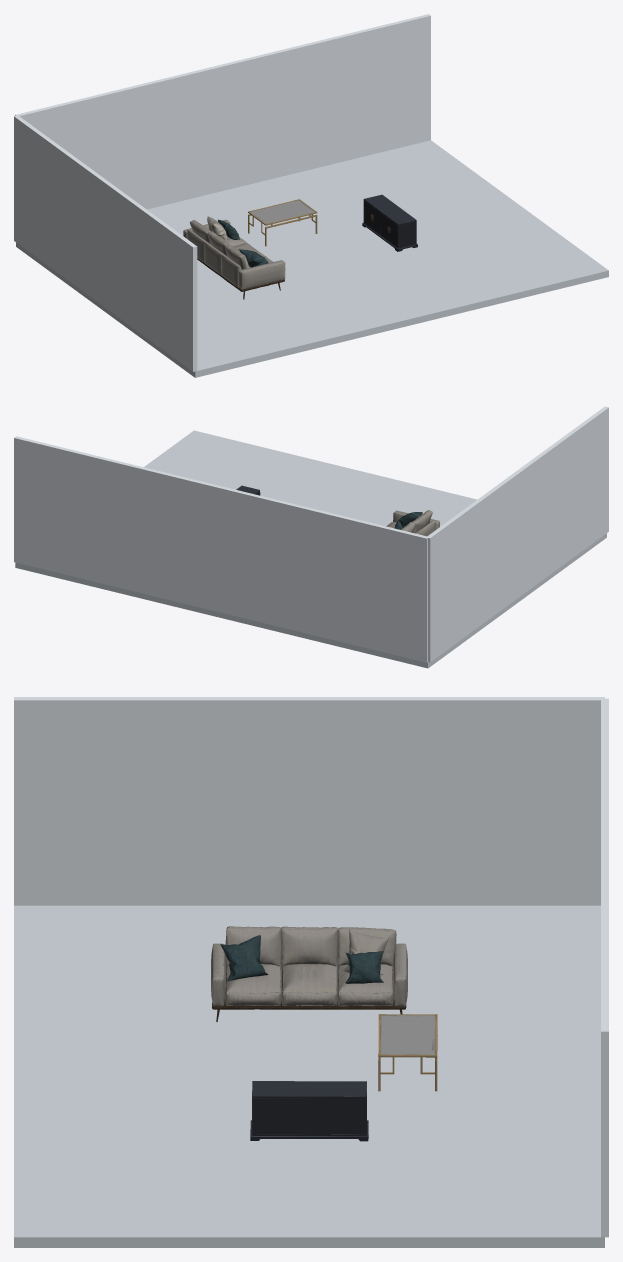
File: stage1.glb
3 renders of one model, top to bottom at view 1: azimuth 30°, elevation 25°; view 2: azimuth 150°, elevation 25°; view 3: azimuth 270°, elevation 25°, orthographic. The views are drawn at different scales.
Visible parts, largest first — view 1: Floor, wall_back, wall_left, raw_model, raw_model.002, raw_model.001; view 2: wall_back, wall_left, Floor, raw_model; view 3: Floor, wall_left, raw_model, raw_model.002, wall_back, raw_model.001.
Part boxes in pixels (x1,y1,x2,y2): Floor: (16, 140, 608, 377); wall_back: (15, 14, 430, 209); wall_left: (14, 116, 197, 371); raw_model: (183, 216, 285, 299); raw_model.002: (362, 194, 417, 251); raw_model.001: (248, 199, 317, 246); wall_back: (14, 436, 428, 662); wall_left: (427, 406, 608, 662); Floor: (15, 430, 606, 668); raw_model: (386, 510, 439, 536); Floor: (14, 905, 604, 1247); wall_left: (14, 697, 604, 905); raw_model: (211, 926, 407, 1021); raw_model.002: (250, 1081, 368, 1141); wall_back: (601, 698, 608, 1237); raw_model.001: (378, 1014, 437, 1091).
Size of the model in its own units: 8.04 by 2.42 by 6.04.
5 materials, 3 textured.
